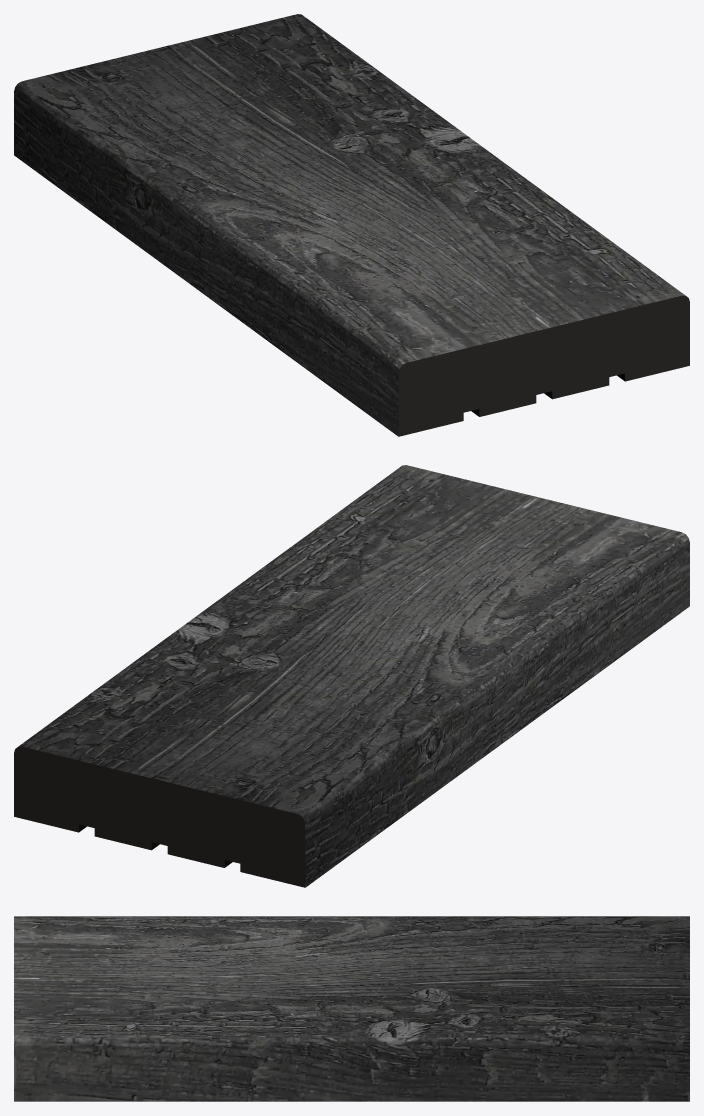
The model's file is larch-terrace-rectangular-carbon-light.glb.
3 views of the same model, one above another, from view 1: azimuth 30°, elevation 25°; view 2: azimuth 150°, elevation 25°; view 3: azimuth 270°, elevation 25° (orthographic). The views are drawn at different scales.
Parts seen in each view (by area): view 1: Staciakampis; view 2: Staciakampis; view 3: Staciakampis.
Part boxes in pixels (x1,y1,x2,y2): Staciakampis: [14, 14, 689, 436]; Staciakampis: [14, 465, 689, 887]; Staciakampis: [14, 916, 689, 1101].
Bounding box in the file's own units: 0.0733 × 0.0173 × 0.1675.
Materials: 3 (1 with a texture image).
